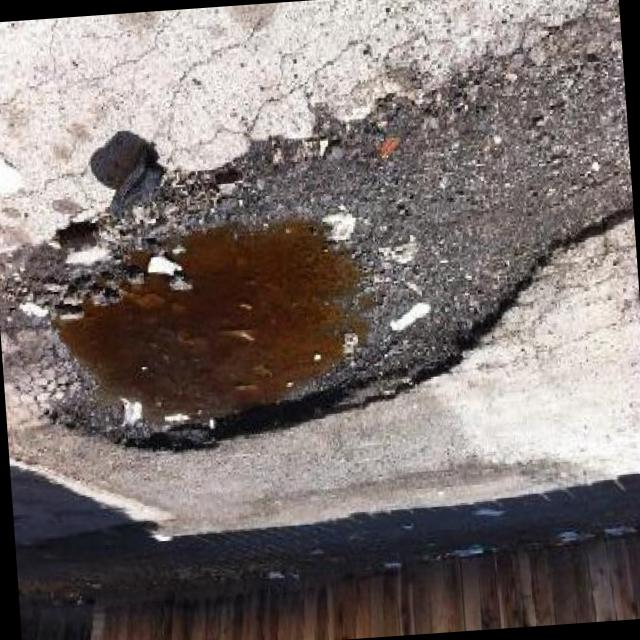pothole: (3, 24, 570, 471)
